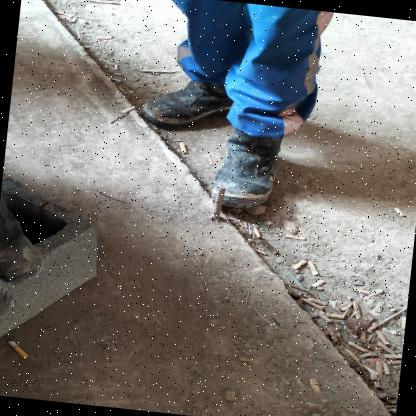bota: (214, 115, 292, 215), (136, 63, 242, 134)
